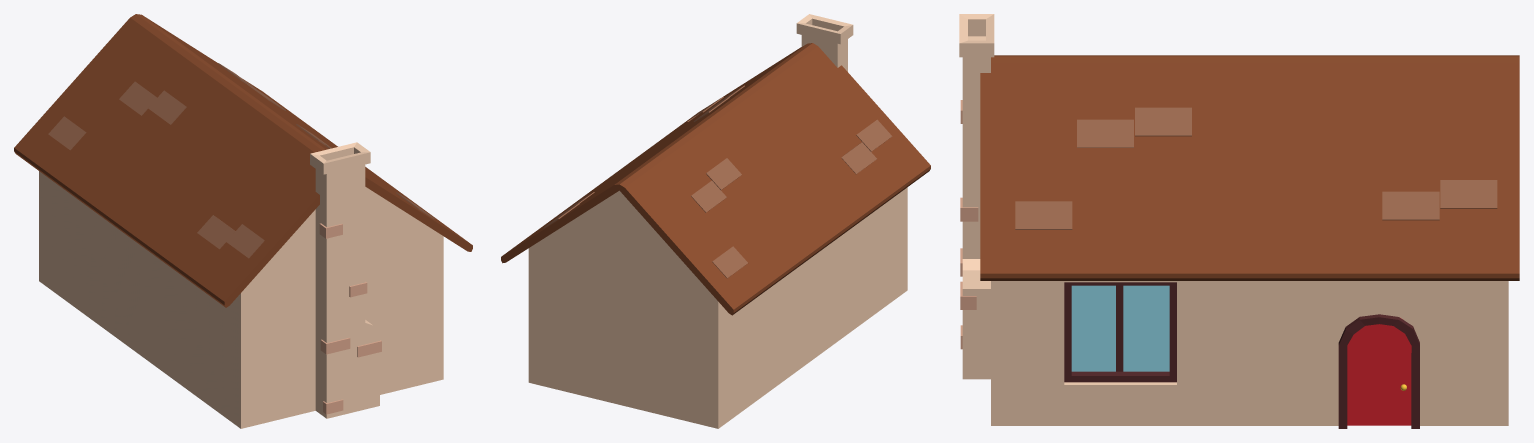
Rendered from HouseA.fbx.
3 views of the same model, side by side, from view 1: azimuth 30°, elevation 25°; view 2: azimuth 150°, elevation 25°; view 3: azimuth 270°, elevation 25° (orthographic). The views are drawn at different scales.
Parts seen in each view (by area): view 1: HomeA; view 2: HomeA; view 3: HomeA.
Part boxes in pixels (<box>): HomeA: <box>14,14,472,428</box>; HomeA: <box>501,14,930,428</box>; HomeA: <box>959,14,1519,428</box>.
Size of the model in its own units: 12.62 by 12.49 by 19.25.
